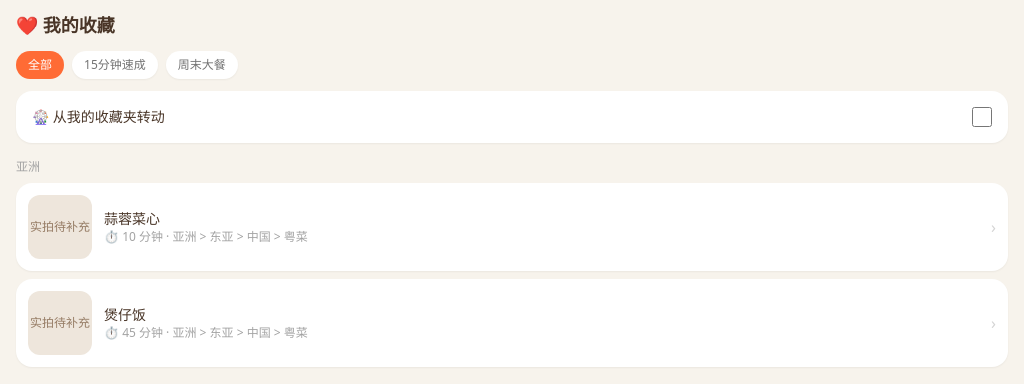
FavoritesPage › 渲染收藏并按场景筛选
Check: the text "蒜蓉菜心" is shown, box [104,209,160,228]
Click the button "15分钟速成". click: click(115, 65)
box: [72,51,158,79]
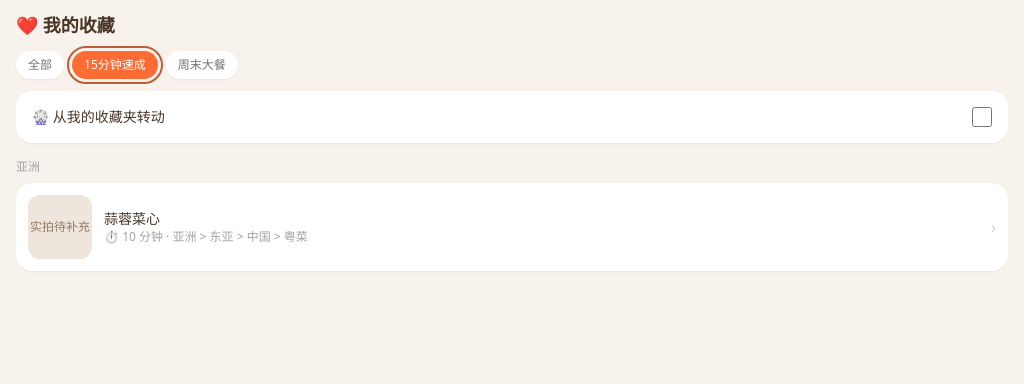
Check: the link "煲仔饭" is gone
